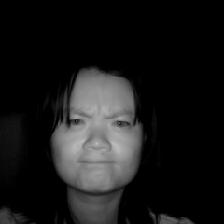sad: (31, 48, 153, 207)
